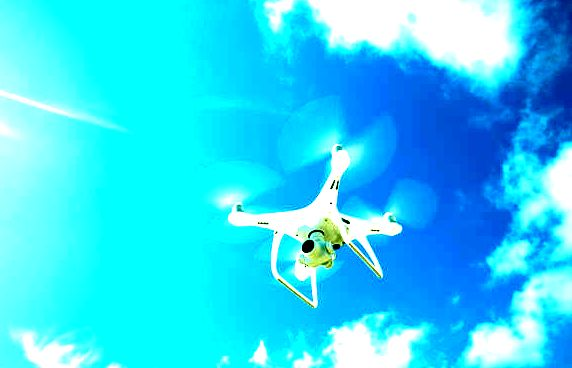Drone: (190, 99, 439, 317)
